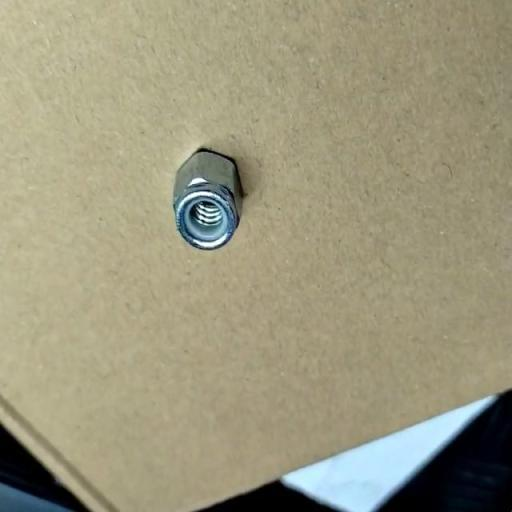Nut: (173, 148, 242, 251)
